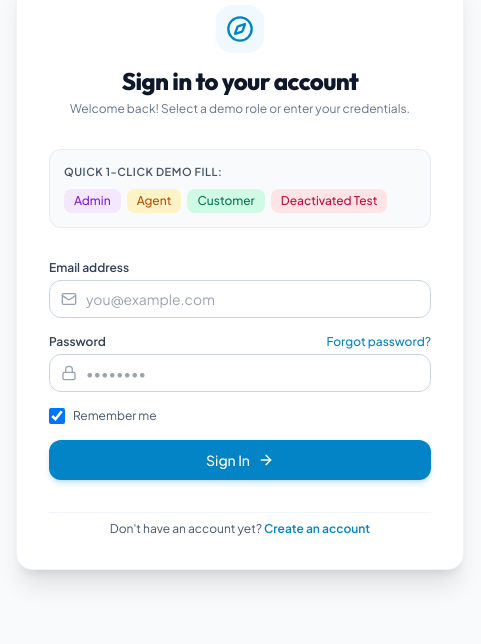
Test: LoginPage Component › shows inline validation error when submitting empty fields
The image size is (481, 644).
Click the button "Sign In" at coordinates (240, 460), box [49,440,431,480]
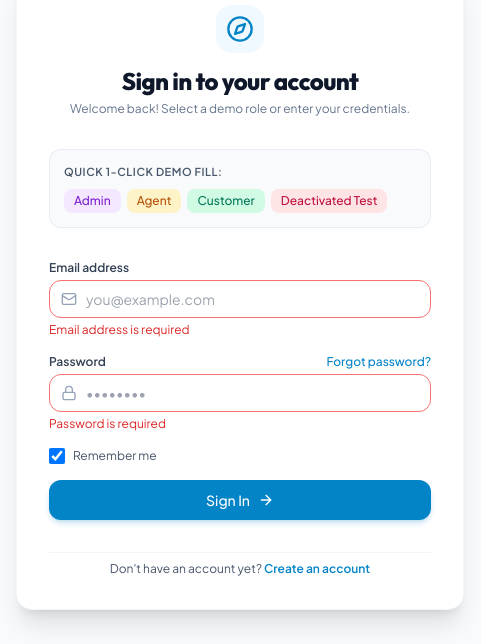
Check: the text "Email address is required" is shown, box [49,322,190,336]
Check: the text "Password is required" is shown, box [49,416,166,430]
